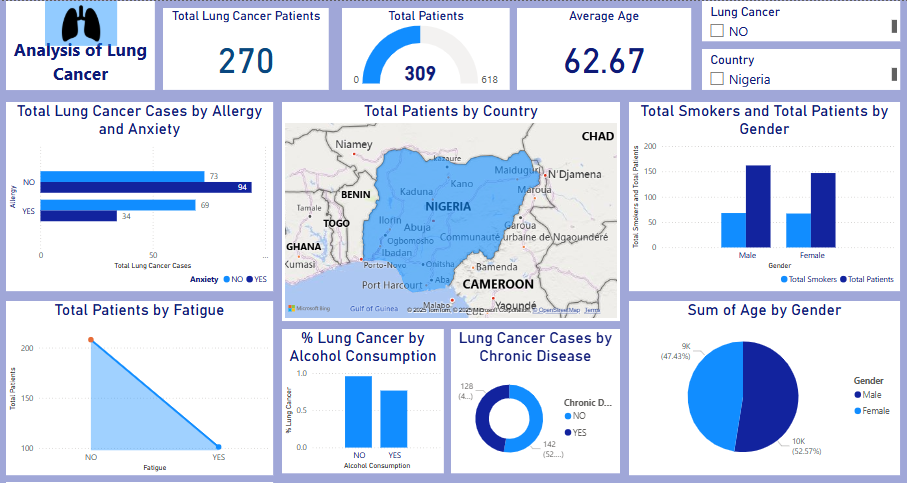

What the dashboard file says about the page in this screenshot:
{"tool":"powerbi","page":{"name":"Page 1","canvas":[1500,900],"ordinal":0},"visuals":[{"type":"clusteredColumnChart","fields":{"Category":["survey lung cancer.Gender"],"Y":["survey lung cancer.Total Smokers","survey lung cancer.Total Patients"]},"box":[969.2,155.4,416.9,290.8],"z":0},{"type":"areaChart","fields":{"Category":["survey lung cancer.Fatigue"],"Y":["survey lung cancer.Total Patients"]},"box":[10.8,461.5,410.8,267.7],"z":1000},{"type":"card","title":"Total Lung Cancer Patients","fields":{"Values":["survey lung cancer.Total Lung Cancer Cases"]},"box":[252.3,10.8,255.4,126.2],"z":2000},{"type":"clusteredBarChart","fields":{"Category":["survey lung cancer.Allergy"],"Y":["survey lung cancer.Total Lung Cancer Cases"],"Series":["survey lung cancer.Anxiety"]},"box":[10.8,155.4,410.8,290.8],"z":3000},{"type":"columnChart","fields":{"Category":["survey lung cancer.Alcohol Consumption"],"Y":["survey lung cancer.% Lung Cancer"]},"box":[435.4,504.6,249.2,221.5],"z":4000},{"type":"card","title":"Average Age","fields":{"Values":["survey lung cancer.Average Age"]},"box":[796.9,10.8,267.7,126.2],"z":5000},{"type":"textbox","box":[10.8,10.8,229.2,126.2],"z":6000},{"type":"gauge","fields":{"Y":["survey lung cancer.Total Patients"]},"box":[527.7,10.8,258.5,126.2],"z":7000},{"type":"slicer","fields":{"Values":["survey lung cancer.Lung Cancer"]},"box":[1081.5,0,304.6,61.5],"z":8000},{"type":"filledMap","fields":{"Category":["survey lung cancer.Country"]},"box":[435.4,155.4,520,336.9],"z":9000},{"type":"slicer","fields":{"Values":["survey lung cancer.Country"]},"box":[1081.5,73.8,304.6,63.1],"z":10000},{"type":"pieChart","fields":{"Category":["survey lung cancer.Gender"],"Y":["Sum(survey lung cancer.Age)"]},"box":[969.2,461.5,416.9,267.7],"z":11000},{"type":"donutChart","title":"Lung Cancer Cases by Chronic Disease","fields":{"Y":["survey lung cancer.Total Lung Cancer Cases"],"Category":["survey lung cancer.Chronic Disease"]},"box":[695.4,504.6,260,221.5],"z":12000}]}

Visuals, with their boxes on the page's 1500x900 design canvas (x1, y1, x2, y2). These are canvas units, not pixel positions in the 907x483 screenshot, which may show the page scaled, cropped or inside an application window:
clusteredColumnChart - survey lung cancer.Gender x survey lung cancer.Total Smokers: 969 155 1386 446
areaChart - survey lung cancer.Fatigue x survey lung cancer.Total Patients: 11 462 422 729
"Total Lung Cancer Patients" card: 252 11 508 137
clusteredBarChart - survey lung cancer.Allergy x survey lung cancer.Total Lung Cancer Cases: 11 155 422 446
columnChart - survey lung cancer.Alcohol Consumption x survey lung cancer.% Lung Cancer: 435 505 685 726
"Average Age" card: 797 11 1065 137
textbox: 11 11 240 137
gauge - survey lung cancer.Total Patients: 528 11 786 137
slicer - survey lung cancer.Lung Cancer: 1082 0 1386 62
filledMap - survey lung cancer.Country: 435 155 955 492
slicer - survey lung cancer.Country: 1082 74 1386 137
pieChart - survey lung cancer.Gender x Sum(survey lung cancer.Age): 969 462 1386 729
"Lung Cancer Cases by Chronic Disease" donutChart: 695 505 955 726
